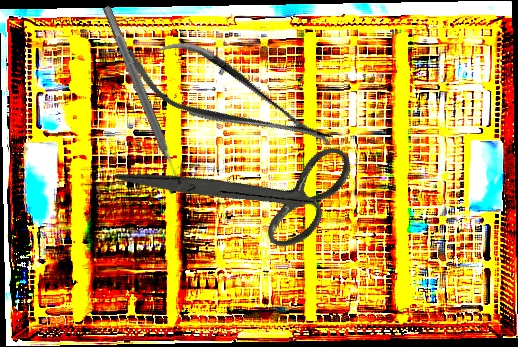Fixation Ring: (91, 0, 199, 196)
Iris Scissors: (113, 73, 373, 306)
Micro Scissor: (114, 19, 345, 175)
